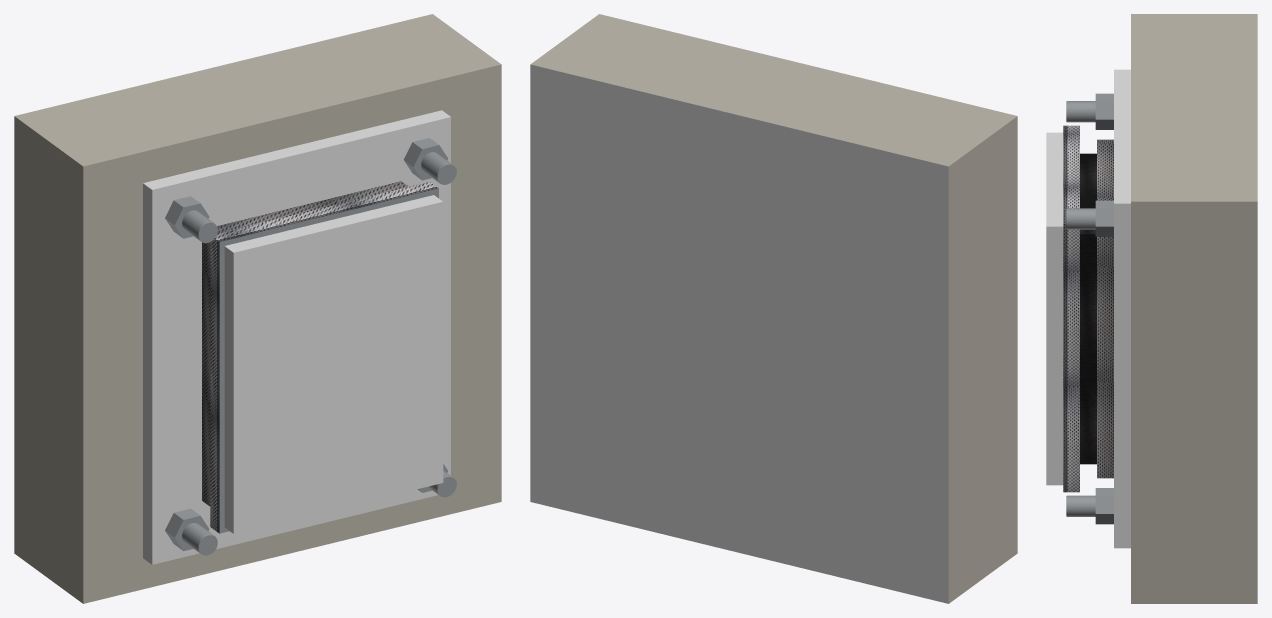
The model's file is bearing_13.obj.
The picture shows the model from 3 angles, left to right: view 1: azimuth 30°, elevation 25°; view 2: azimuth 150°, elevation 25°; view 3: azimuth 270°, elevation 25°; orthographic projection. The views are drawn at different scales.
Visible parts, largest first — view 1: _8, Color_001, _2, Metal_Rough; view 2: Color_001, _8; view 3: _8, Color_001, _2, _5, Metal_Rough.
Boxes of the visible parts, x1=… form: _8: x1=14, y1=14, x2=501, y2=603; Color_001: x1=143, y1=110, x2=450, y2=564; _2: x1=202, y1=181, x2=438, y2=533; Metal_Rough: x1=165, y1=138, x2=456, y2=555; Color_001: x1=530, y1=64, x2=948, y2=603; _8: x1=530, y1=14, x2=1017, y2=603; _8: x1=1131, y1=14, x2=1257, y2=603; Color_001: x1=1046, y1=69, x2=1130, y2=548; _2: x1=1063, y1=125, x2=1113, y2=492; _5: x1=1080, y1=153, x2=1096, y2=464; Metal_Rough: x1=1066, y1=93, x2=1113, y2=524.
Bounding box in the file's own units: 0.757 × 0.7563 × 0.3602.
